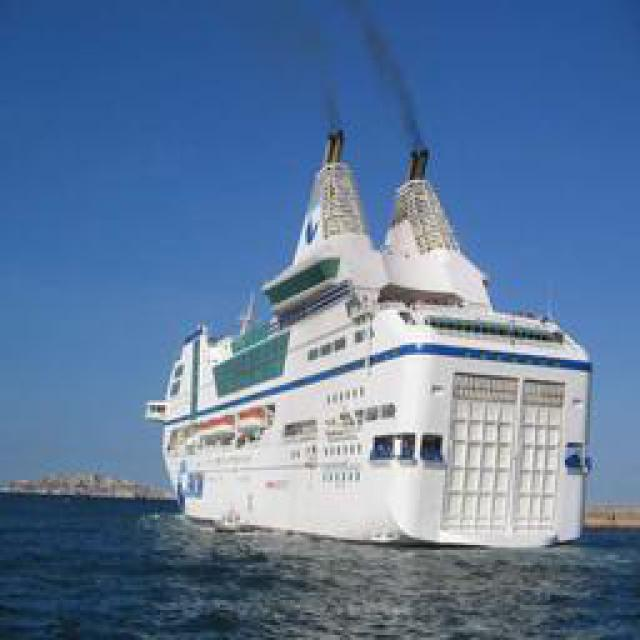Ship: (160, 67, 598, 545)
